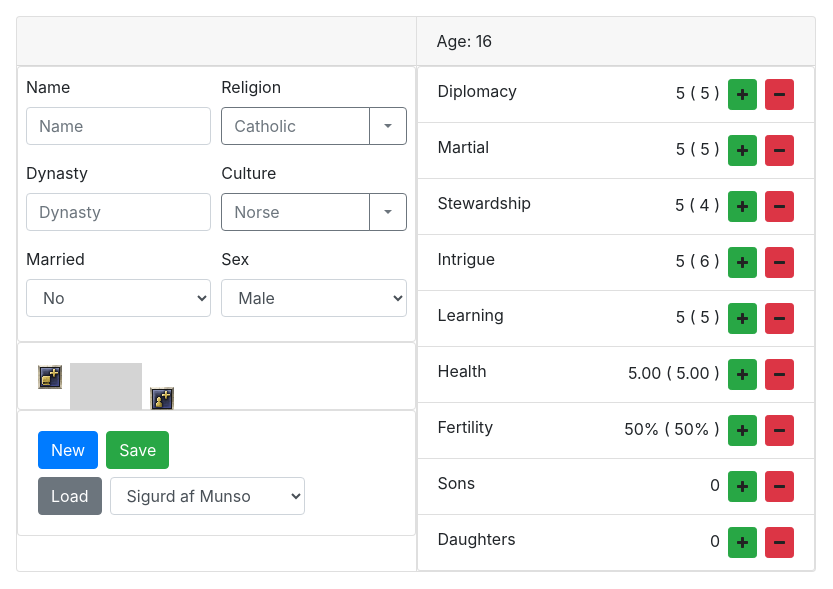
Test: renders char names in the header and input when a character's name and dynasty are entered
Type "Marshmallow" into the field with placeholder "Name". click: (119, 126)
box: [26,107,211,145]
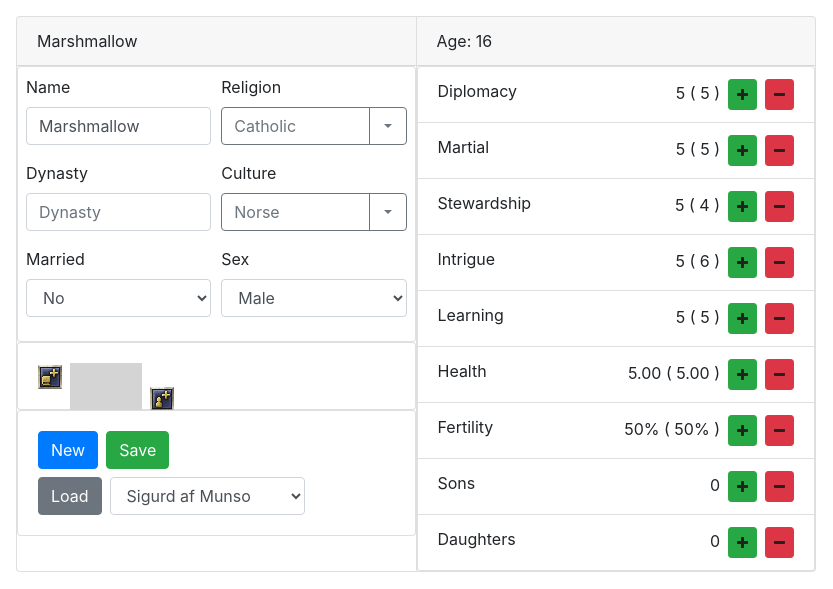
Type "Mann" into the field with placeholder "Dynasty". click: (119, 212)
box: [26,193,211,231]
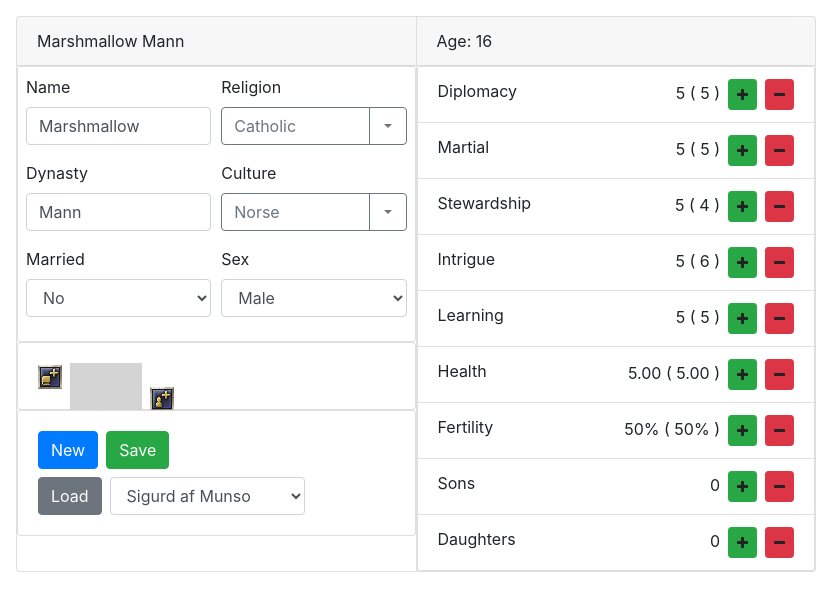
Now the element named "Details Header" shows "Marshmallow", box [37,31,138,51]
Now the element named "Details Header" shows "Mann", box [142,31,184,51]
